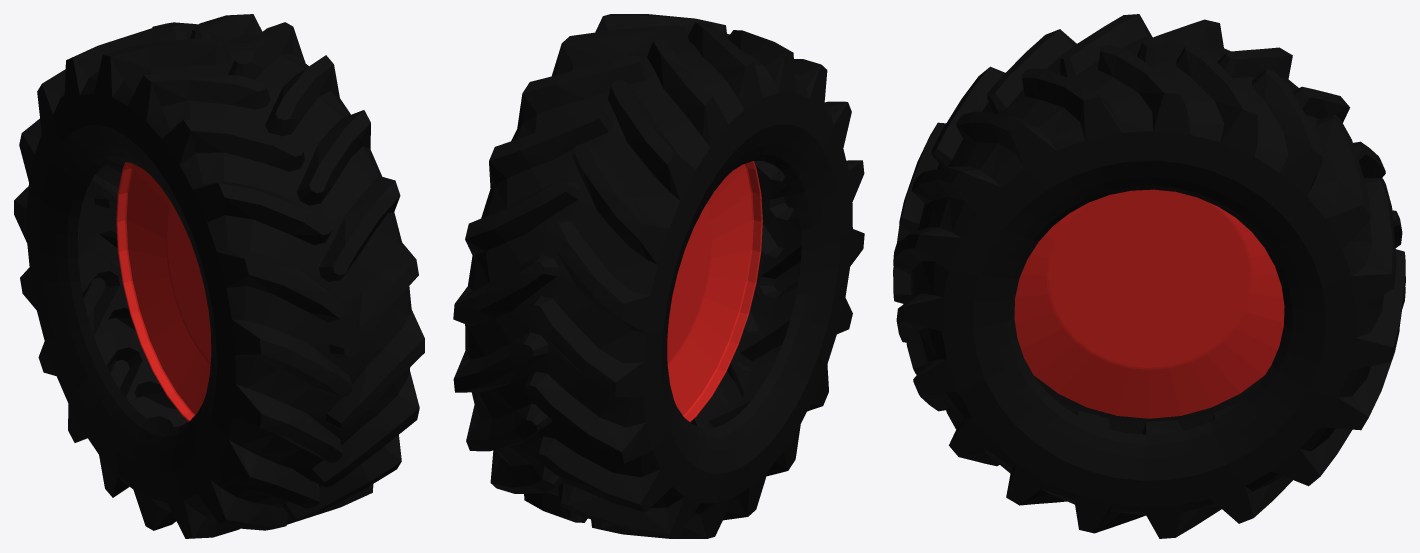
The model's file is front_right_wheel_visuals.obj.
3 renders of one model, left to right at view 1: azimuth 30°, elevation 25°; view 2: azimuth 150°, elevation 25°; view 3: azimuth 270°, elevation 25°, orthographic.
Parts seen in each view (by area): view 1: front_right_wheel; view 2: front_right_wheel; view 3: front_right_wheel.
Part boxes in pixels (x1,y1,x2,y2): front_right_wheel: (14,14,424,538); front_right_wheel: (453,14,864,538); front_right_wheel: (893,14,1405,538).
Bounding box in the file's own units: 6.17 × 15.1 × 15.1.
